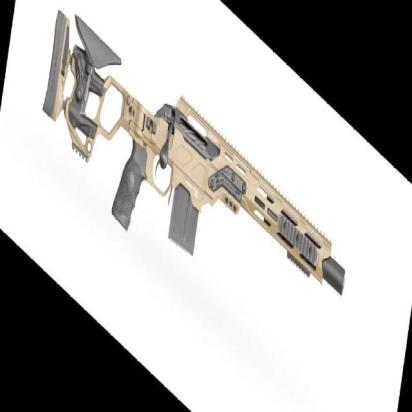Gun: (49, 18, 342, 303)
